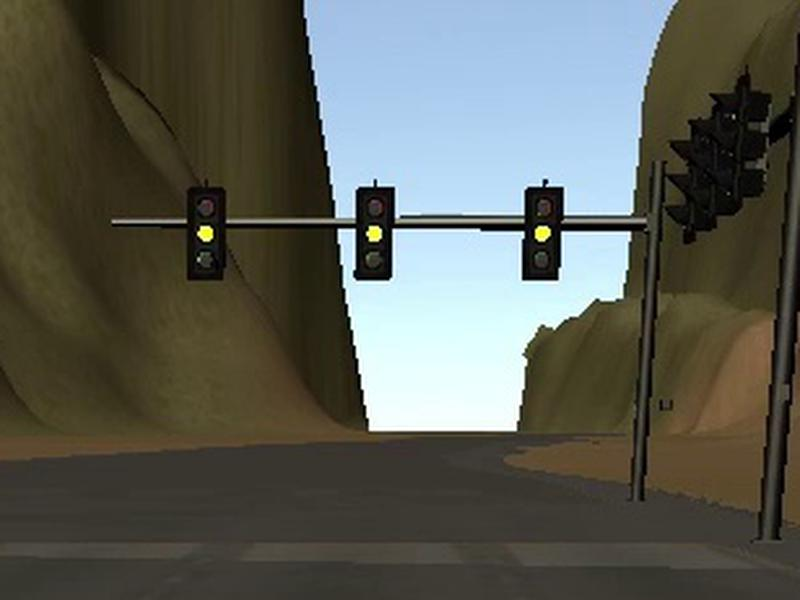Yellow: (352, 186, 395, 280), (522, 187, 564, 279), (186, 187, 225, 281)
